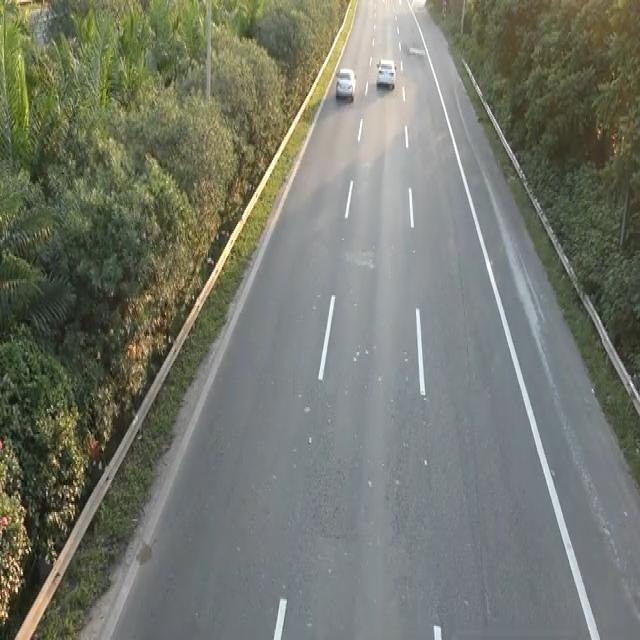bus: (373, 53, 399, 96), (334, 64, 357, 101)
